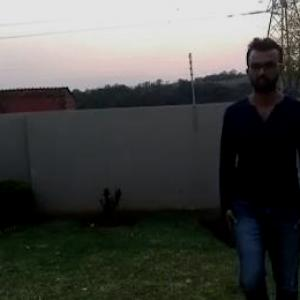follow: (219, 36, 300, 299)
